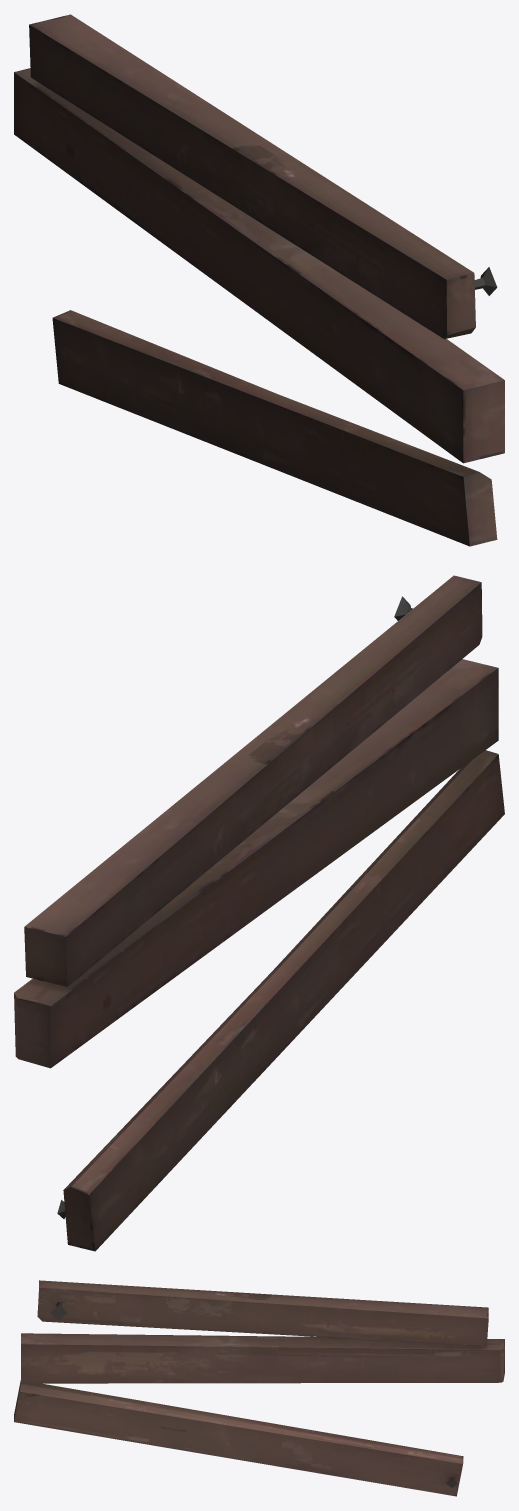
3 renders of one model, top to bottom at view 1: azimuth 30°, elevation 25°; view 2: azimuth 150°, elevation 25°; view 3: azimuth 270°, elevation 25°, orthographic. The views are drawn at different scales.
Visible parts, largest first — view 1: body0_model0_lod0_mesh0; view 2: body0_model0_lod0_mesh0; view 3: body0_model0_lod0_mesh0.
Part boxes in pixels (x1,y1,x2,y2): body0_model0_lod0_mesh0: (14, 14, 504, 546); body0_model0_lod0_mesh0: (14, 575, 504, 1251); body0_model0_lod0_mesh0: (14, 1280, 504, 1496).
Size of the model in its own units: 7.44 by 45.03 by 95.94.
Materials: 1 (1 with a texture image).
